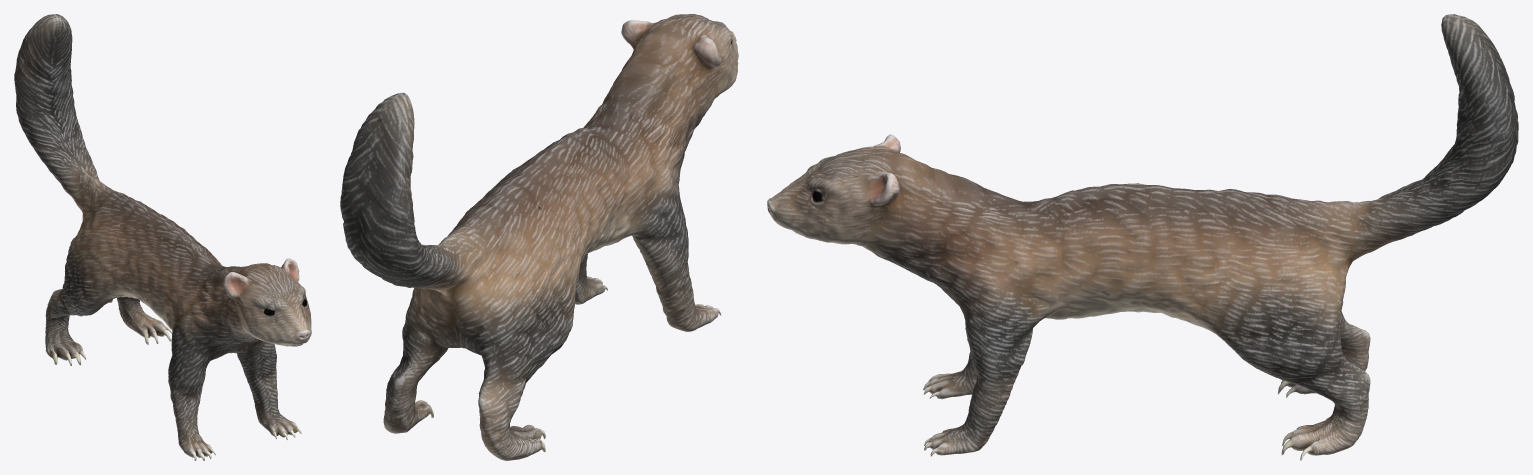
File: MZ4250 - Weasel.glb
3 views of the same model, side by side, from view 1: azimuth 30°, elevation 25°; view 2: azimuth 150°, elevation 25°; view 3: azimuth 270°, elevation 25° (orthographic). The views are drawn at different scales.
Visible parts, largest first — view 1: Ferret.001; view 2: Ferret.001; view 3: Ferret.001.
Boxes of the visible parts, x1=… form: Ferret.001: x1=14, y1=14, x2=311, y2=460; Ferret.001: x1=340, y1=14, x2=738, y2=460; Ferret.001: x1=767, y1=14, x2=1518, y2=460.
Size of the model in its own units: 5.39 by 12.81 by 21.42.
Materials: 1 (1 with a texture image).
